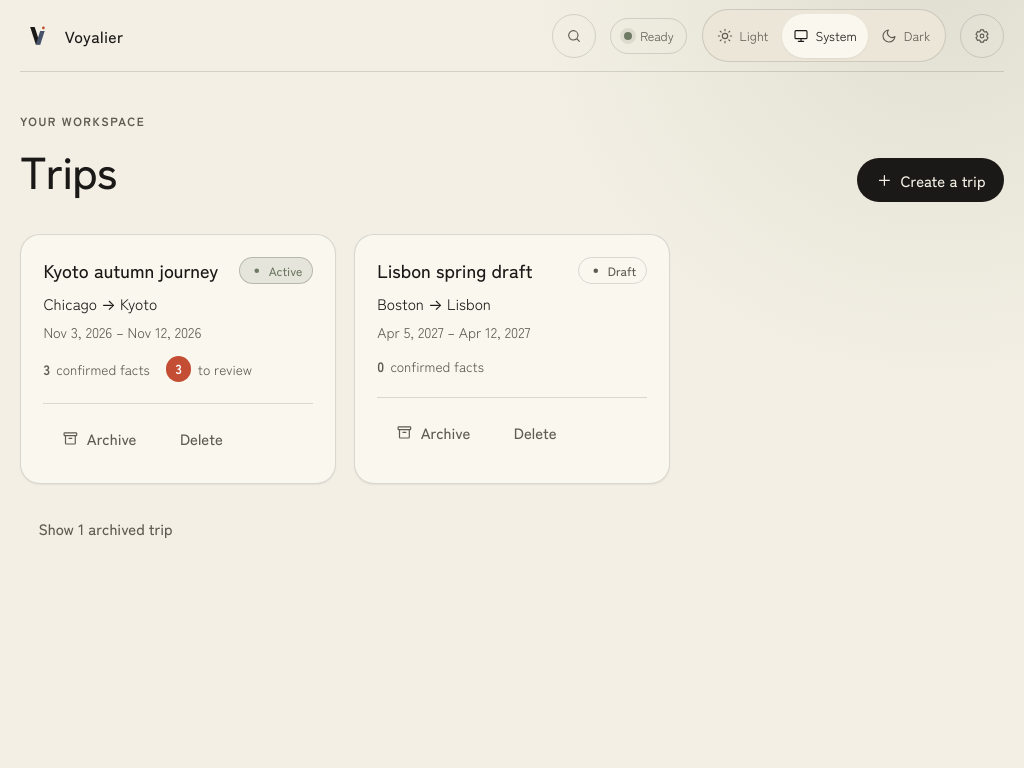
Scenario: disruption playbook › reports the real slack and names the leg it comes off
Click the button with aria-label "Open Kyoto autumn journey".
click(131, 270)  # box left=43, top=257, right=218, bottom=283
(page scrolled)
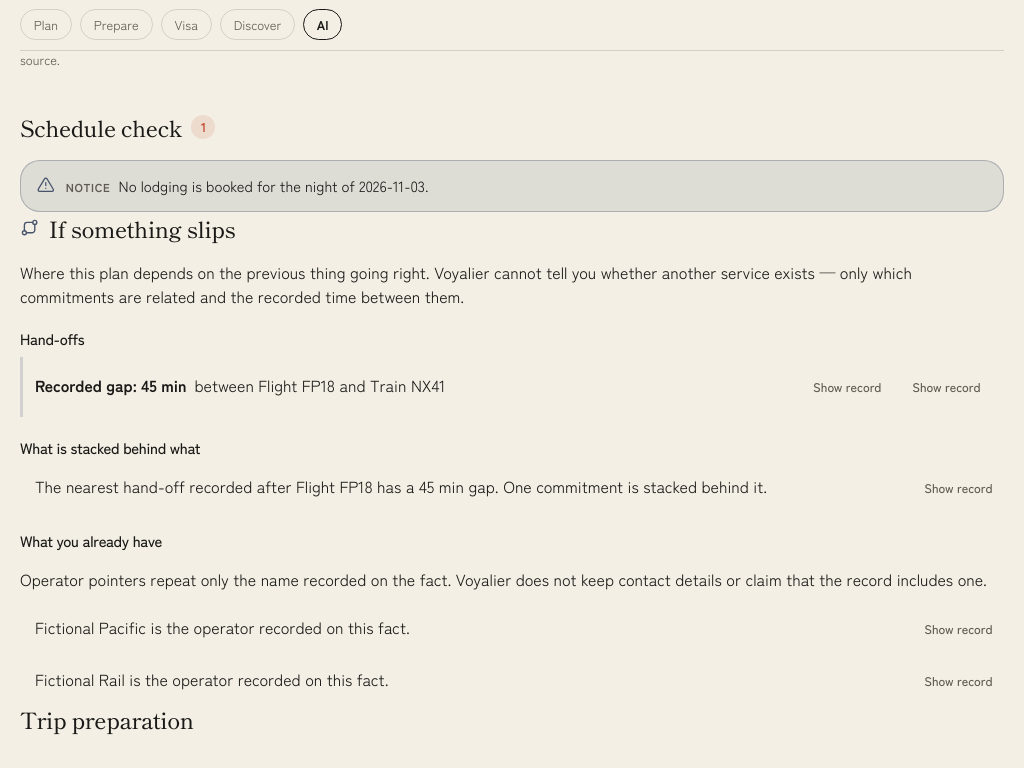
Result: the text "Recorded gap: 45 min" is shown at left=35, top=372, right=186, bottom=396
Result: the text "between Flight FP18 and Train NX41" is shown at left=194, top=372, right=445, bottom=396
